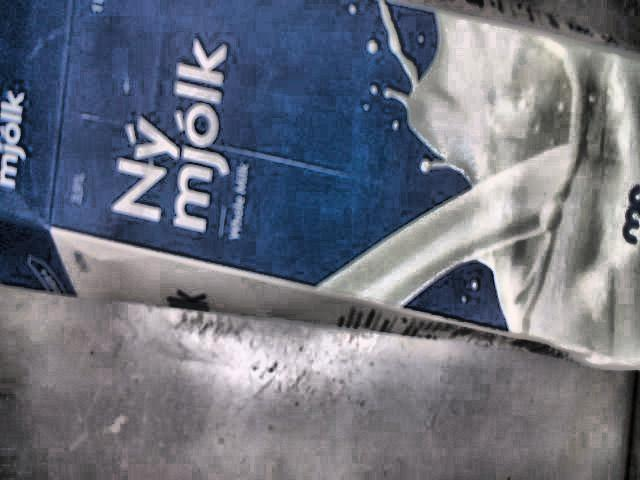Paper: (1, 0, 640, 372)
